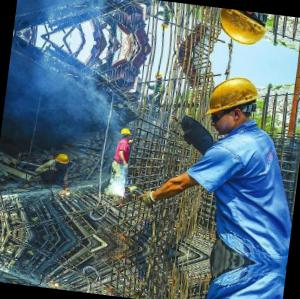helmet: (200, 69, 266, 140), (211, 8, 275, 54), (55, 153, 72, 170), (121, 126, 134, 141), (155, 71, 166, 85), (161, 19, 172, 33)
